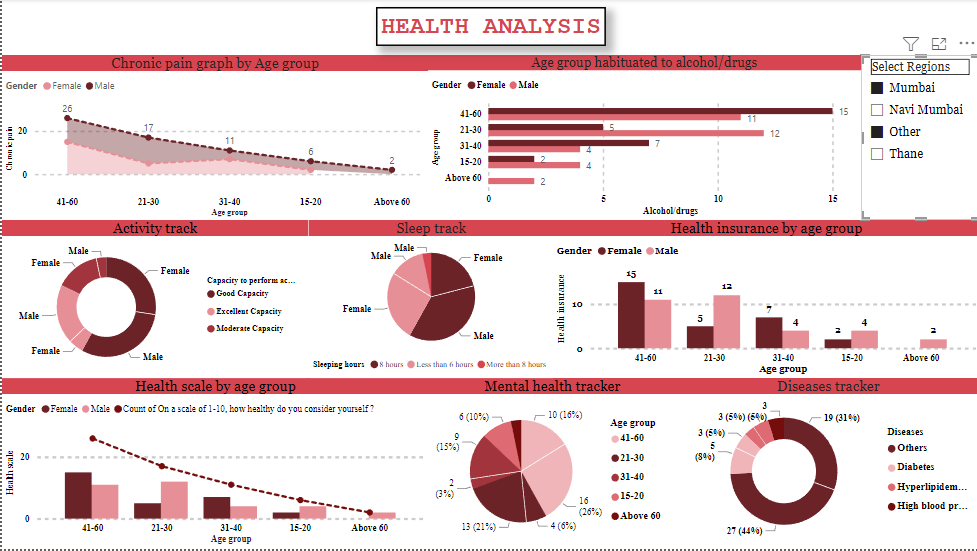

Layout of this report page (visuals, bound fields, positions):
{"tool":"powerbi","page":{"name":"Page 1","canvas":[1280,720],"ordinal":0},"visuals":[{"type":"clusteredColumnChart","title":"Health insurance by age group","fields":{"Series":["Health Analysis.Gender"],"Category":["Health Analysis.Age group"],"Y":["CountNonNull(Health Analysis.Do you have a health insurance ? )"]},"box":[721.3,289.5,558.7,206.6],"z":0},{"type":"slicer","fields":{"Values":["Health Analysis.Select your region of residence"]},"box":[1124.6,73.9,155.1,215.9],"z":1000},{"type":"lineClusteredColumnComboChart","title":"Health scale by age group","fields":{"Category":["Health Analysis.Age group"],"Series":["Health Analysis.Gender"],"Y":["CountNonNull(Health Analysis.On a scale of 1-10, how healthy do you consider yourself ?)"],"Y2":["CountNonNull(Health Analysis.On a scale of 1-10, how healthy do you consider yourself ?)"]},"box":[0,496.1,558.7,223.5],"z":2000},{"type":"stackedAreaChart","title":"Chronic pain graph by Age group ","fields":{"Category":["Health Analysis.Age group"],"Y":["CountNonNull(Health Analysis.Do you experience any chronic pain ?)"],"Series":["Health Analysis.Gender"]},"box":[0,73.4,558.3,216.1],"z":3000},{"type":"donutChart","title":"Activity track","fields":{"Category":["Health Analysis.In your opinion, at what capacity can you perform everyday activities ? "],"Series":["Health Analysis.Gender"],"Y":["CountNonNull(Health Analysis.Gender)"]},"box":[0,289.5,401.3,206.6],"z":4000},{"type":"clusteredBarChart","title":"Age group  habituated to alcohol/drugs","fields":{"Y":["CountNonNull(Health Analysis.Are you habituated to alcohol/drugs ?)"],"Series":["Health Analysis.Gender"],"Category":["Health Analysis.Age group"]},"box":[558.3,73.4,566.6,216.1],"z":5000},{"type":"pieChart","title":"Mental health tracker","fields":{"Category":["Health Analysis.Age group"],"Y":["CountNonNull(Health Analysis.Does your mental well being has an affect on your physical health ?)"],"Series":["Health Analysis.Does your mental well being has an affect on your physical health ?"]},"box":[558.3,495.9,325.5,223],"z":6000},{"type":"donutChart","title":"Diseases tracker","fields":{"Series":["Health Analysis.Gender"],"Category":["Health Analysis.Do you have any hereditary conditions/ diseases ?"],"Y":["CountNonNull(Health Analysis.Do you have any hereditary conditions/ diseases ?)"]},"box":[883.8,495.9,396.2,223],"z":7000},{"type":"pieChart","title":"Sleep track","fields":{"Category":["Health Analysis.How much hours of sleep do you get on a daily basis ? "],"Y":["CountNonNull(Health Analysis.Gender)"],"Series":["Health Analysis.Gender"]},"box":[401.3,289.5,320,206.6],"z":8000},{"type":"shape","box":[489,11.1,300.6,51.3],"z":9000}]}

Visuals, with their boxes in screenshot pixels (x1, y1, x2, y2), scaled from the page's 1280x720 canvas onto the 977x551 screenshot:
"Health insurance by age group" clusteredColumnChart: (551,222,976,380)
slicer - Health Analysis.Select your region of residence: (858,57,976,222)
"Health scale by age group" lineClusteredColumnComboChart: (0,380,426,550)
"Chronic pain graph by Age group " stackedAreaChart: (0,56,426,222)
"Activity track" donutChart: (0,222,306,380)
"Age group  habituated to alcohol/drugs" clusteredBarChart: (426,56,859,222)
"Mental health tracker" pieChart: (426,380,675,550)
"Diseases tracker" donutChart: (675,380,976,550)
"Sleep track" pieChart: (306,222,551,380)
shape: (373,8,603,48)
